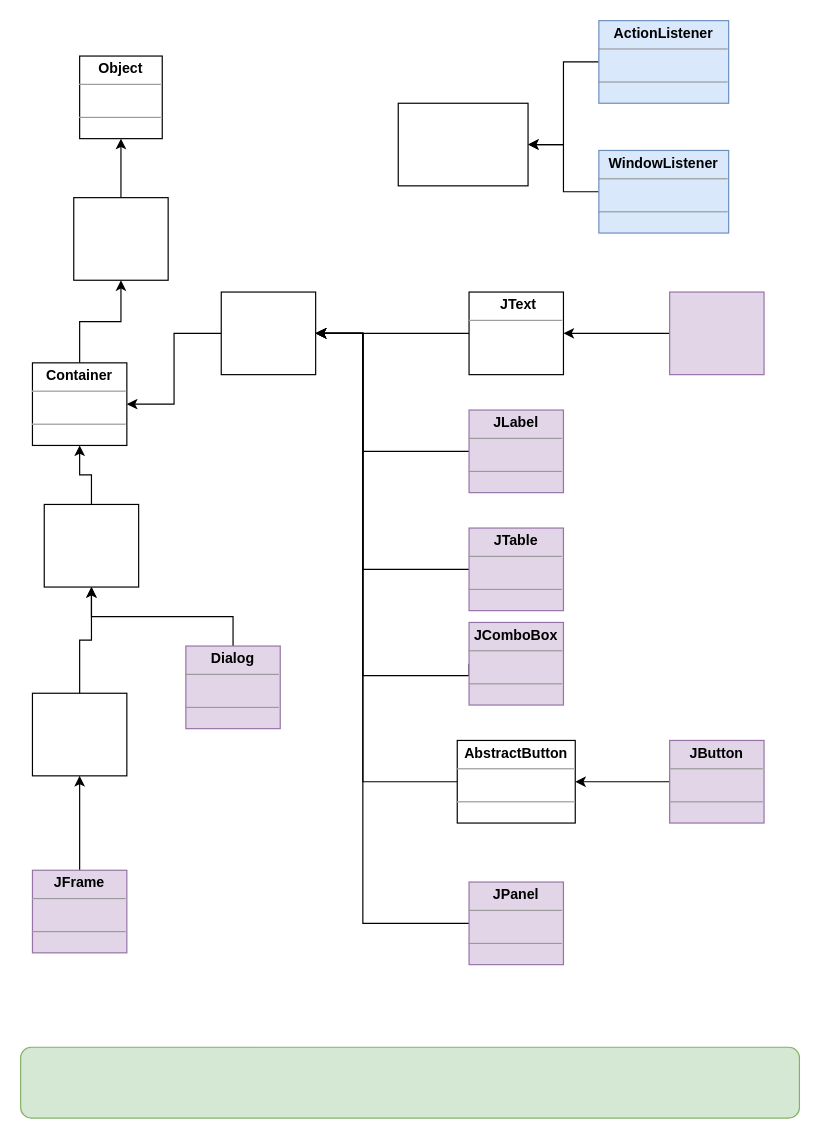
The diagram is 820 pixels wide and 1139 high, and some of its shapes have lost their labels. The centre of each missing label's shape, as x and y in pixels:
"Component" goes at pixel 120 238.
"EventListener" goes at pixel 462 144.
"Frame" goes at pixel 79 734.
"Java Swing hierarchy and some used components" goes at pixel 409 1082.
"JComponent" goes at pixel 268 333.
"JTextField" goes at pixel 716 333.
"Window" goes at pixel 91 545.
